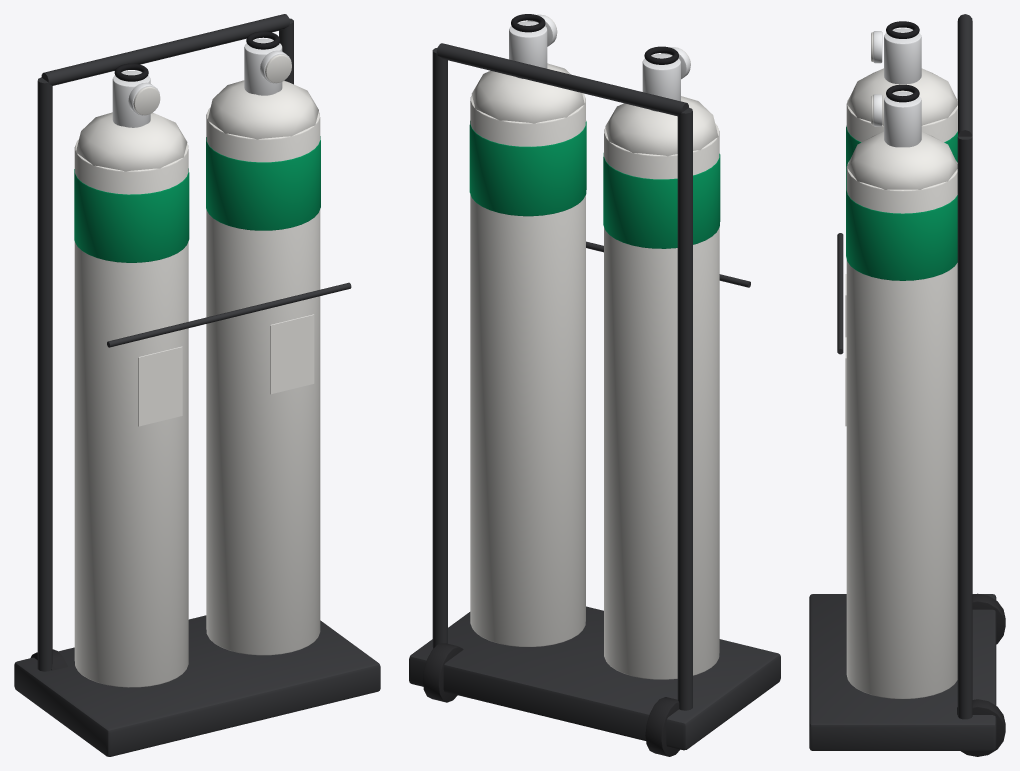
The model's file is bombole.glb.
3 views of the same model, side by side, from view 1: azimuth 30°, elevation 25°; view 2: azimuth 150°, elevation 25°; view 3: azimuth 270°, elevation 25° (orthographic). The views are drawn at different scales.
Parts seen in each view (by area): view 1: bombole; view 2: bombole; view 3: bombole.
Boxes of the visible parts, box(x1,y1,x2,y2) form: bombole: box(14, 14, 380, 756); bombole: box(409, 14, 780, 756); bombole: box(809, 14, 1005, 756).
Bounding box in the file's own units: 0.5 × 1.13 × 0.315.
